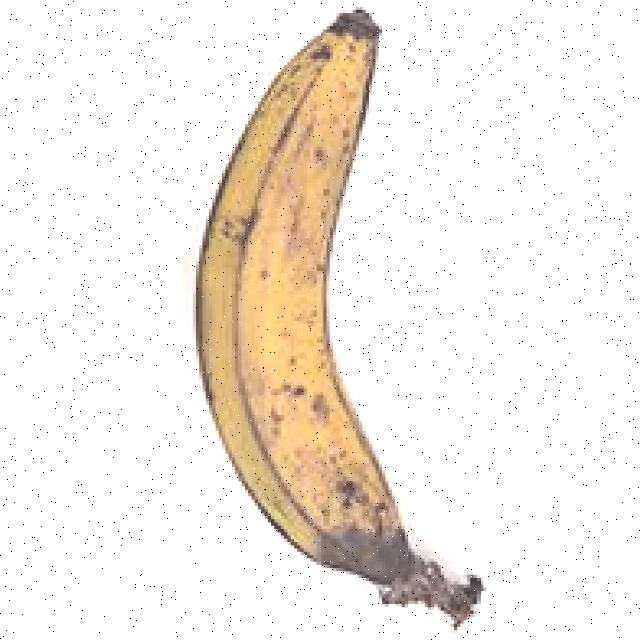Overripe: (147, 1, 535, 636)
